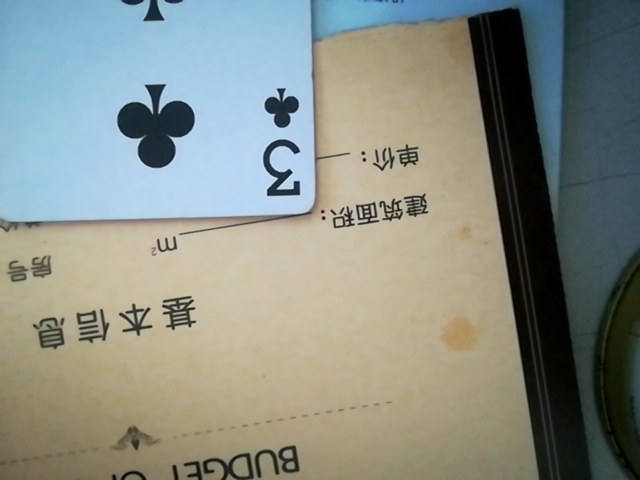mh 3: (0, 0, 322, 226)
